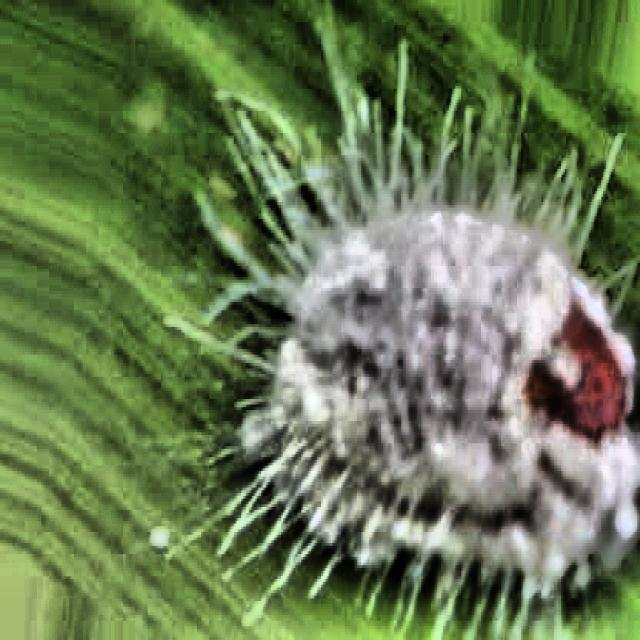Mealy-bug: (156, 69, 640, 630)
